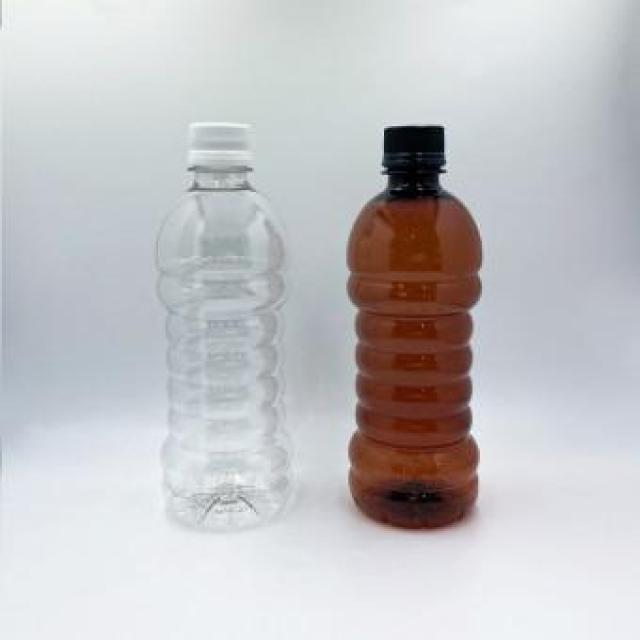bottle: (154, 120, 288, 531), (350, 118, 478, 524)
